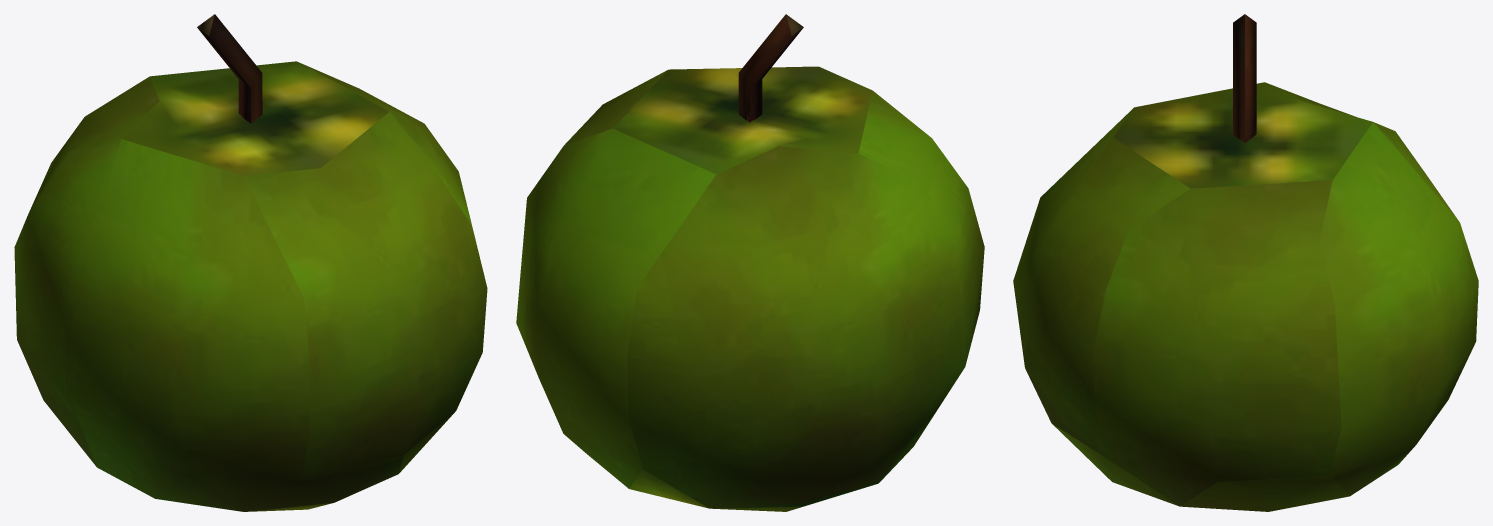
Rendered from ITFO_APPLE.glb.
3 views of the same model, side by side, from view 1: azimuth 30°, elevation 25°; view 2: azimuth 150°, elevation 25°; view 3: azimuth 270°, elevation 25° (orthographic). The views are drawn at different scales.
Parts seen in each view (by area): view 1: Mesh; view 2: Mesh; view 3: Mesh.
Boxes of the visible parts, x1,y1,x2,y2 form: Mesh: (14,14,487,511); Mesh: (516,14,984,511); Mesh: (1013,14,1478,511).
Size of the model in its own units: 0.1306 by 0.1447 by 0.1387.
1 material, 1 textured.
